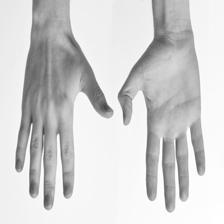Hand: (117, 2, 203, 196)
